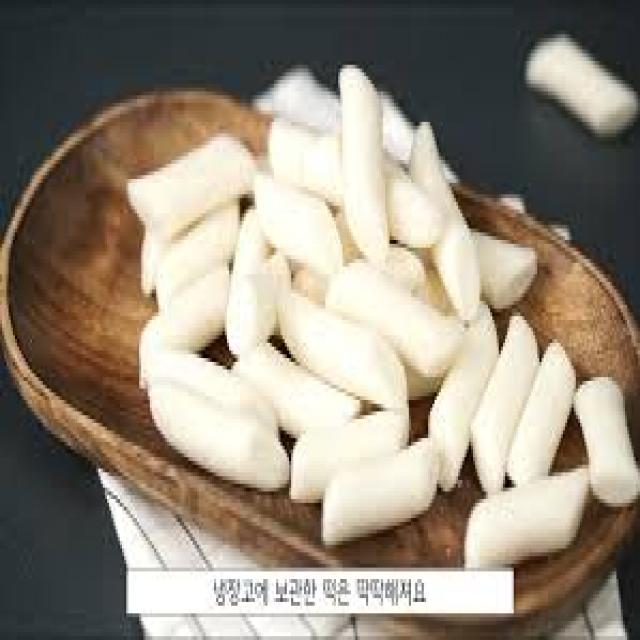rice_cake: (128, 69, 638, 566)
